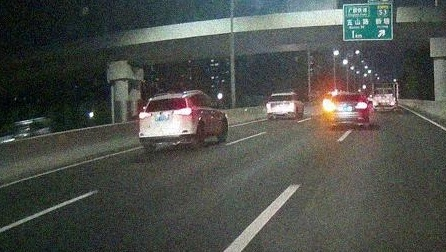L_light: (139, 112, 151, 119), (326, 104, 336, 110), (267, 103, 273, 107)
R_light: (174, 107, 192, 115), (355, 102, 366, 109), (288, 103, 295, 107)
T_light: (161, 97, 172, 101), (344, 94, 353, 96), (279, 95, 285, 96)
night-left: (326, 93, 368, 127)
night-no: (139, 91, 194, 148), (266, 93, 295, 119)
